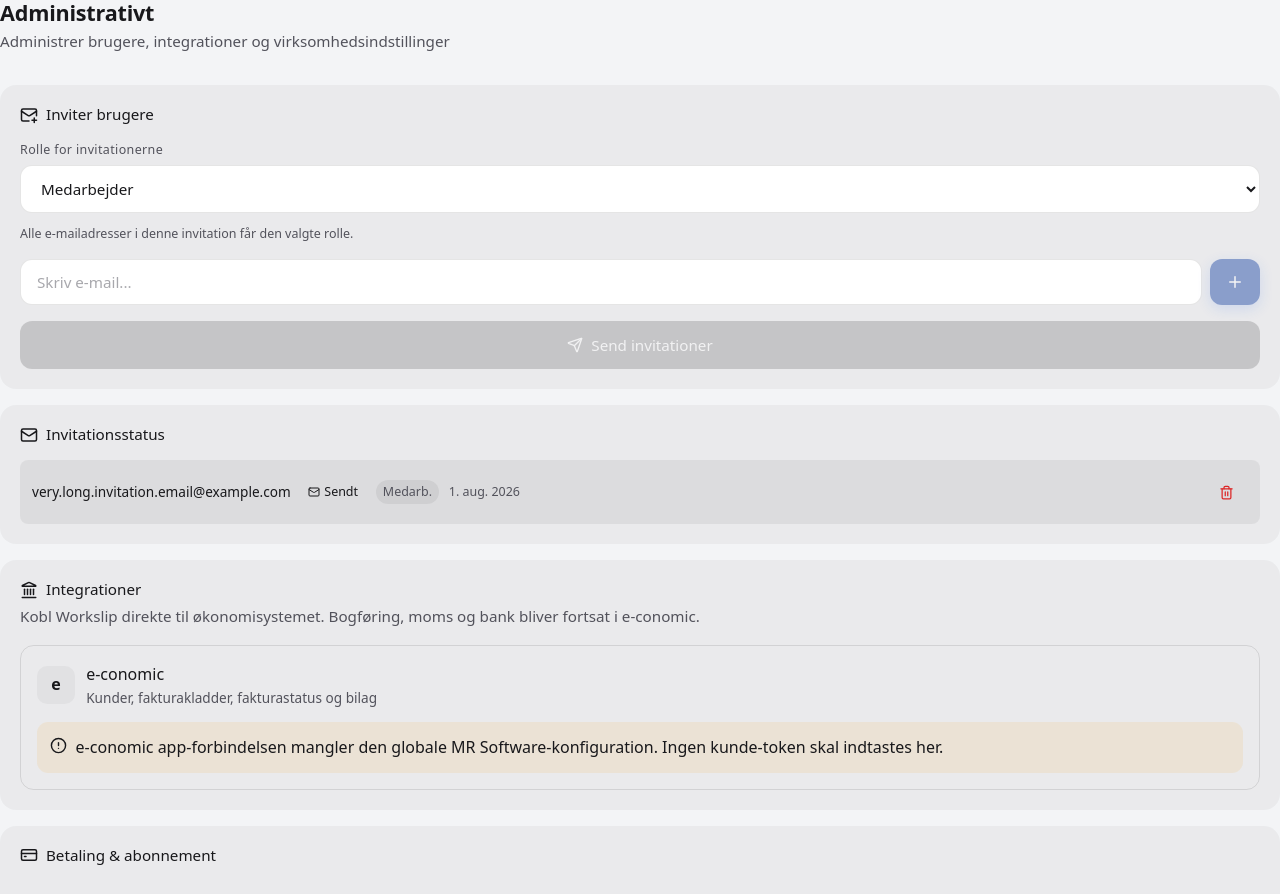
Settings invitation role › does not report success when the invitation response is missing results
The width and height of the screenshot is (1280, 894).
Step 1. Type "unknown@example.com" into the field with placeholder "Skriv e-mail..." → coordinates (611, 282), box [20, 259, 1202, 305]
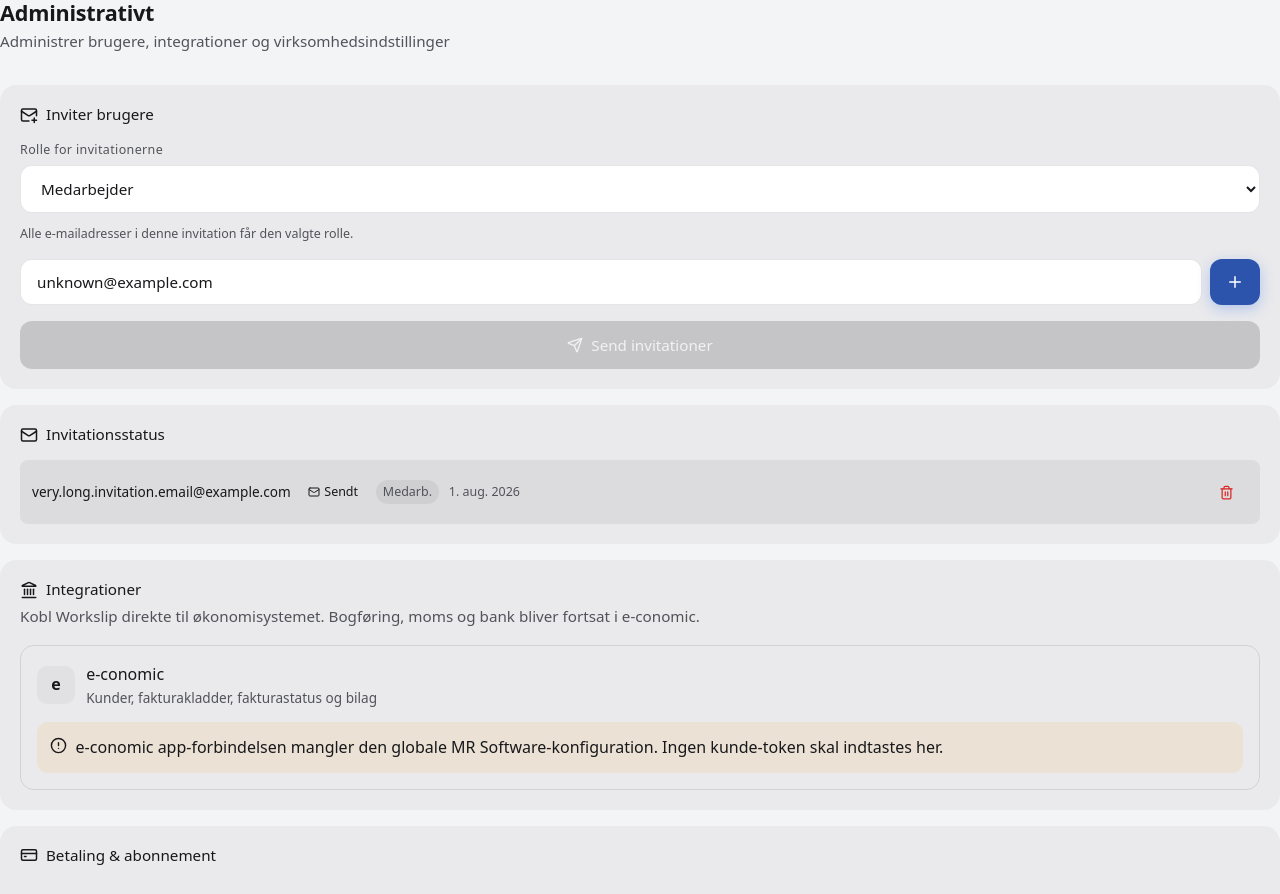
Step 2. Click the button named "Tilføj e-mail" → coordinates (1235, 282), box [1210, 259, 1260, 305]
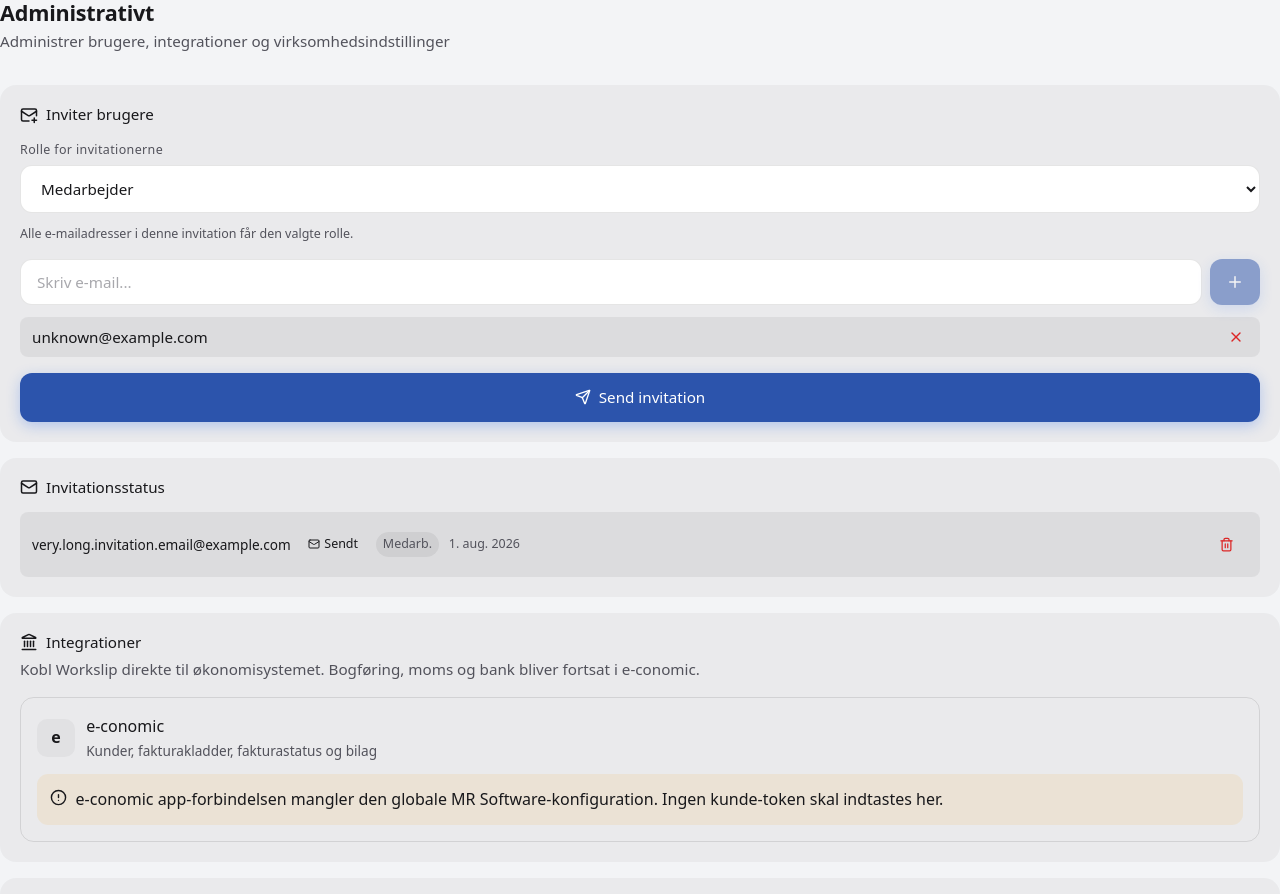
Step 3. Click the button "Send invitation" → coordinates (640, 397), box [20, 373, 1260, 422]
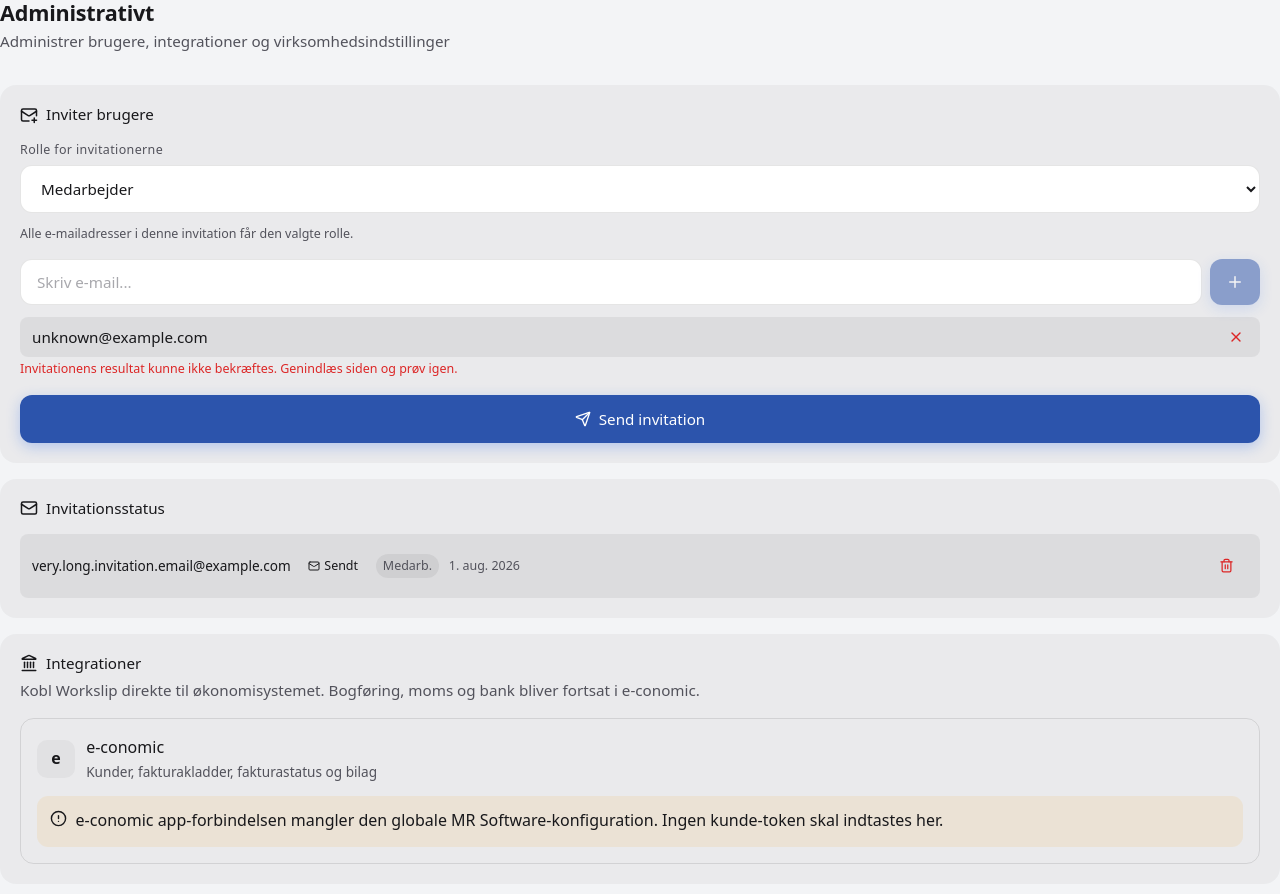
Expected: the text "unknown@example.com" is shown, [32, 325, 208, 349]
Expected: the message "Invitationens resultat kunne ikke bekræftes. Genindlæs siden og prøv igen." is shown, [20, 360, 458, 377]
